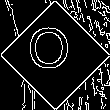O_S: (34, 30, 76, 80)
